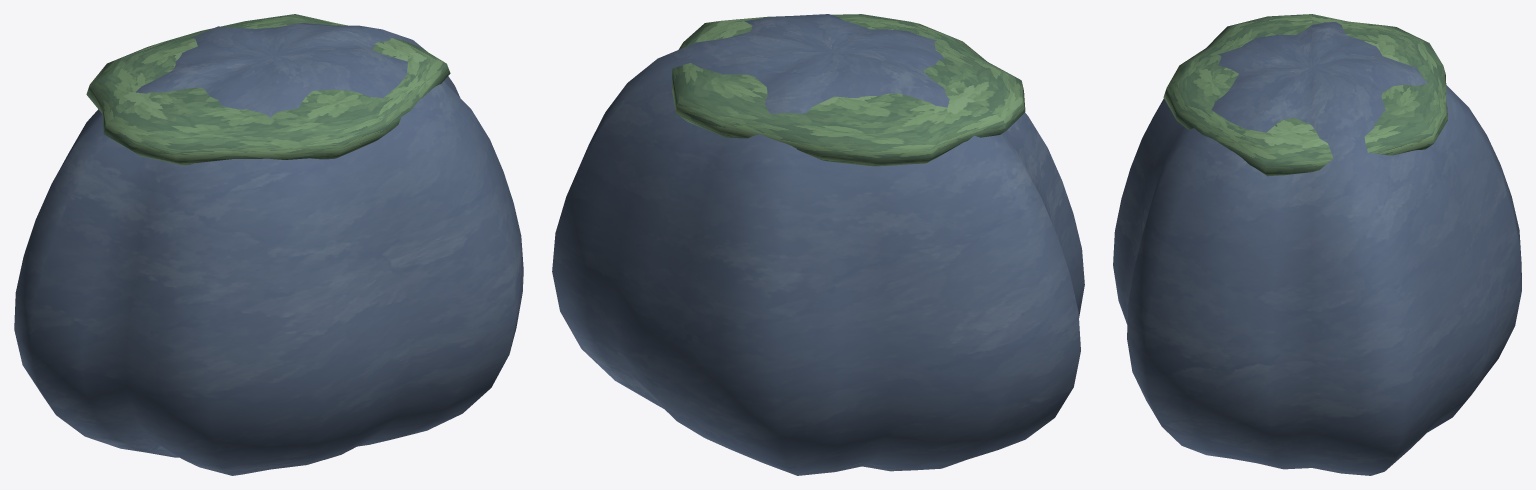
The model's file is rock_1.glb.
3 views of the same model, side by side, from view 1: azimuth 30°, elevation 25°; view 2: azimuth 150°, elevation 25°; view 3: azimuth 270°, elevation 25° (orthographic). The views are drawn at different scales.
Visible parts, largest first — view 1: rock_1; view 2: rock_1; view 3: rock_1.
Part boxes in pixels (x1=…): rock_1: x1=14, y1=14, x2=523, y2=475; rock_1: x1=552, y1=14, x2=1084, y2=475; rock_1: x1=1113, y1=14, x2=1521, y2=475.
Bounding box in the file's own units: 2.37 × 1.88 × 1.84.
Materials: 1 (1 with a texture image).
